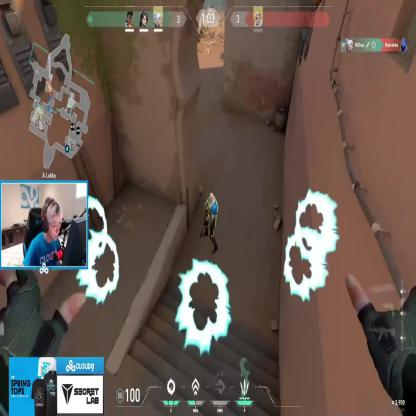enemy: (200, 191, 219, 254)
enemy_head: (209, 194, 214, 204)
